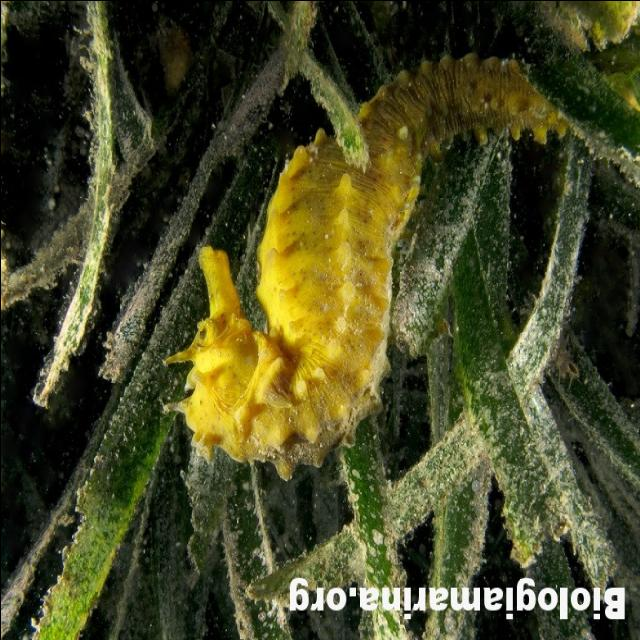Guttu: (174, 232, 274, 472)
